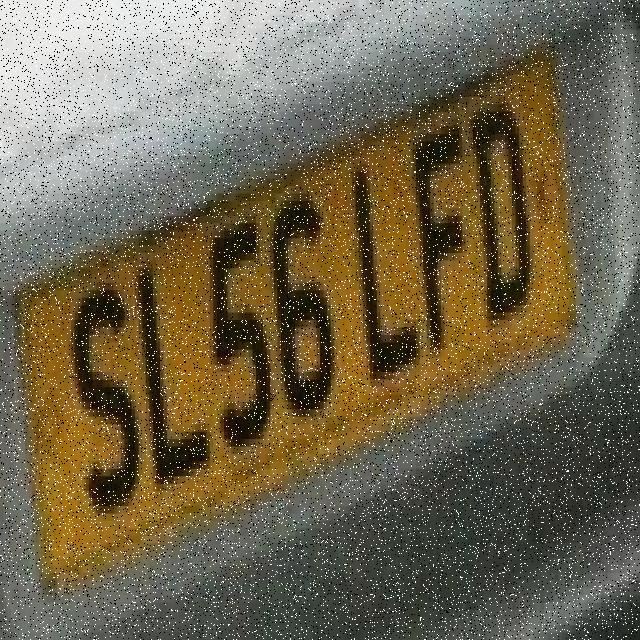licenseplate: (11, 42, 576, 608)
